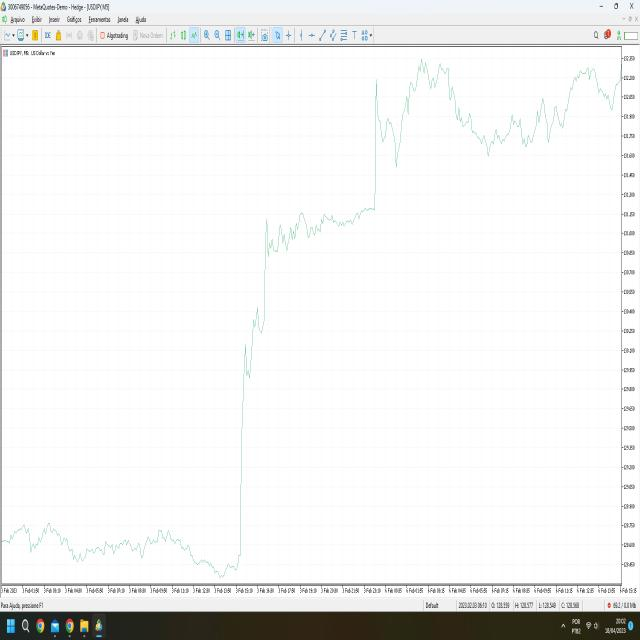bandeira_alta: (230, 165, 361, 581)
